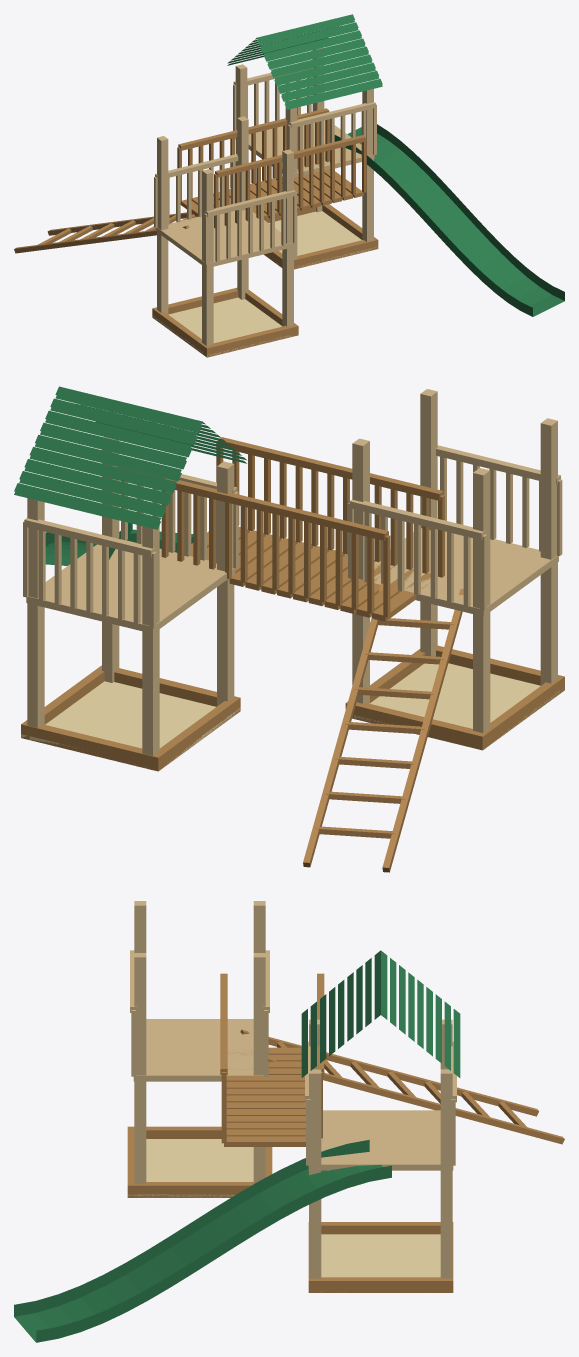
The picture shows the model from 3 angles, top to bottom: view 1: azimuth 30°, elevation 25°; view 2: azimuth 150°, elevation 25°; view 3: azimuth 270°, elevation 25°; orthographic projection. The views are drawn at different scales.
Visible parts, largest first — view 1: SW-T204; view 2: SW-T204; view 3: SW-T204.
Part boxes in pixels (x1,y1,x2,y2): SW-T204: [14, 14, 564, 357]; SW-T204: [14, 386, 564, 872]; SW-T204: [14, 901, 564, 1342].
Size of the model in its own units: 4.94 by 2.8 by 4.95.
